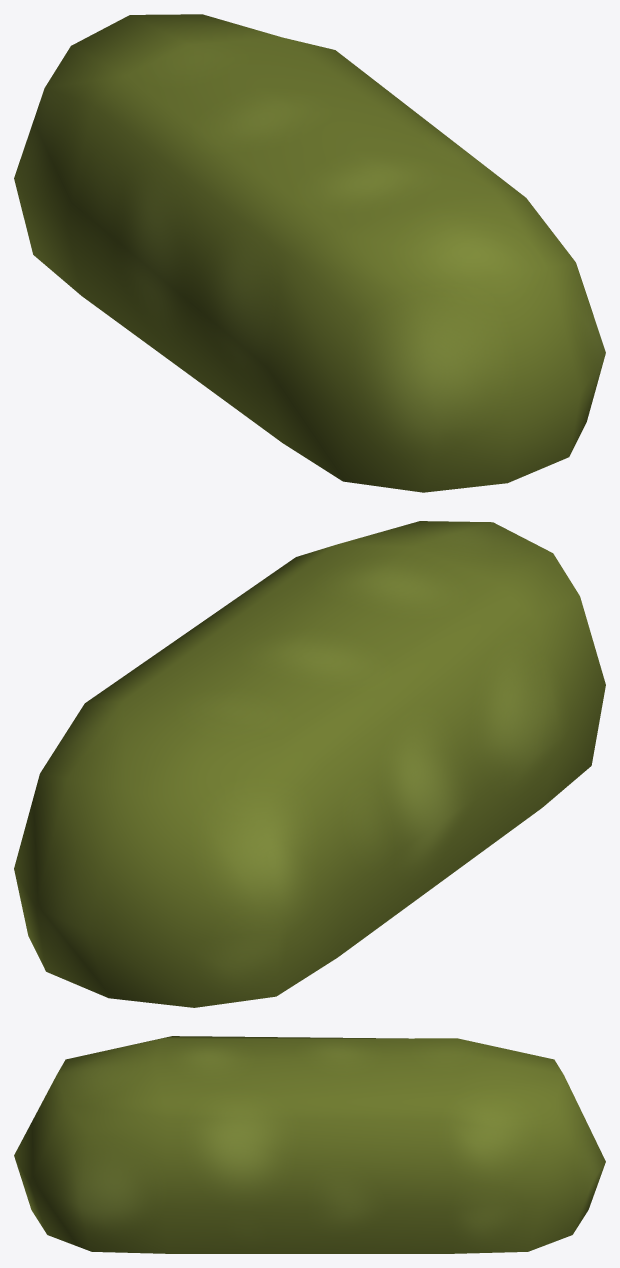
Rendered from Arbusto_2.fbx.
3 renders of one model, top to bottom at view 1: azimuth 30°, elevation 25°; view 2: azimuth 150°, elevation 25°; view 3: azimuth 270°, elevation 25°, orthographic. The views are drawn at different scales.
Parts seen in each view (by area): view 1: Arbusto_2; view 2: Arbusto_2; view 3: Arbusto_2.
Boxes of the visible parts, bbox=[...] form: Arbusto_2: bbox=[14, 14, 605, 492]; Arbusto_2: bbox=[14, 521, 605, 1007]; Arbusto_2: bbox=[14, 1036, 605, 1253].
Bounding box in the file's own units: 38.83 × 27.51 × 97.49.
